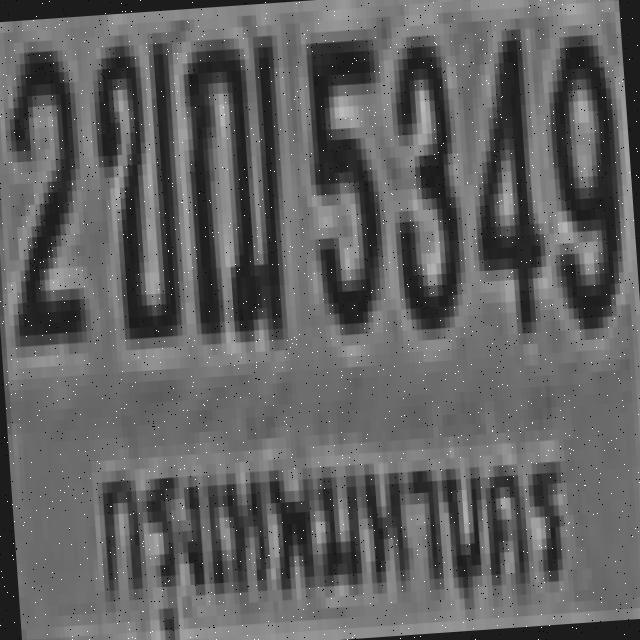11KhorKhai: (85, 27, 182, 334)
2: (0, 38, 88, 336)
21ChorChoe: (170, 24, 292, 334)
3: (379, 23, 461, 320)
4: (460, 18, 542, 325)
5: (299, 18, 387, 325)
9: (540, 23, 622, 320)
Bangkok: (80, 397, 577, 640)
